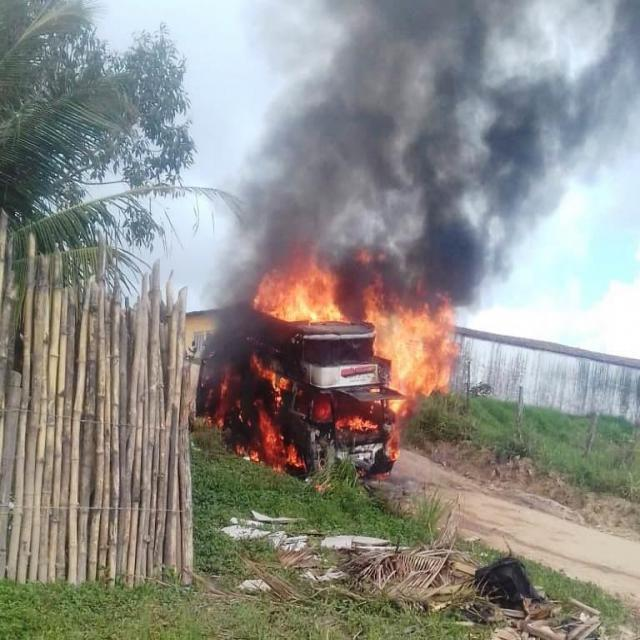Fire: (360, 284, 452, 416), (258, 249, 346, 321), (256, 406, 300, 474), (338, 414, 378, 434)
